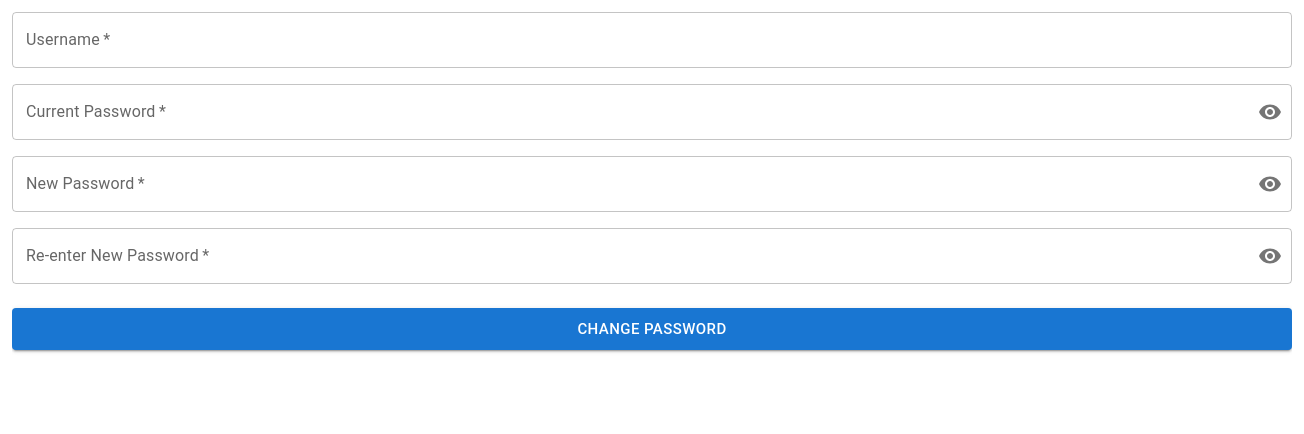
Test: PasswordForm › surfaces a general error alert when server returns unfielded error
Type "jdoe" into the field labelled "Username *" at (652, 40), box [12,12,1292,68]
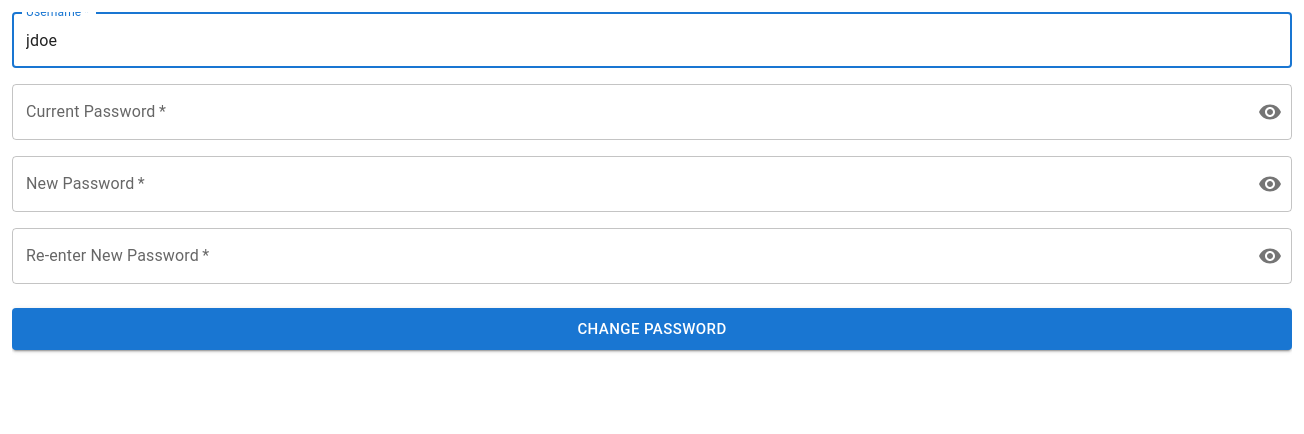
Type "OldPass1!" into the password field labelled "Current Password *" at (627, 112), box [12,84,1242,140]
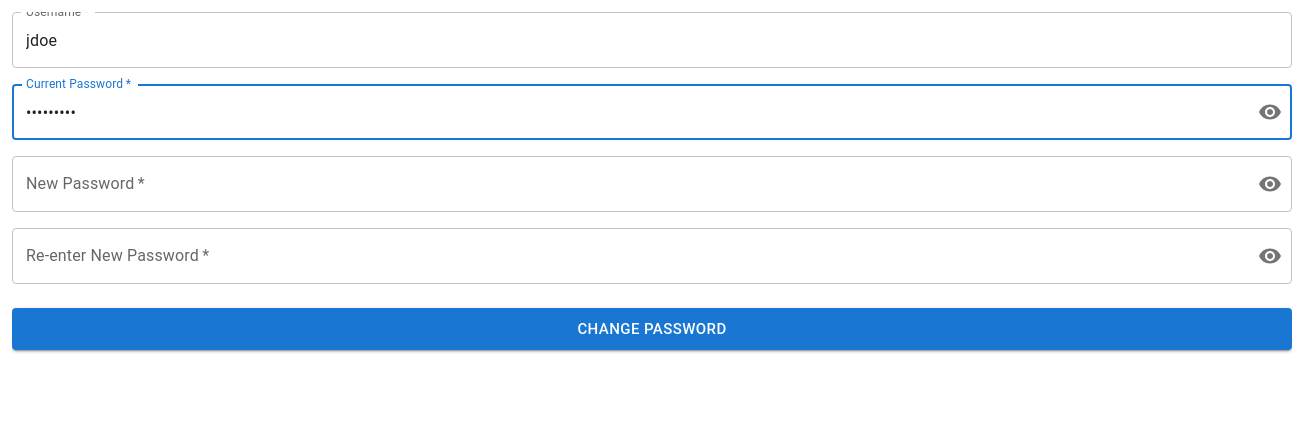
Type "NewPass1!" into the password field labelled "New Password *" at (627, 184), box [12,156,1242,212]
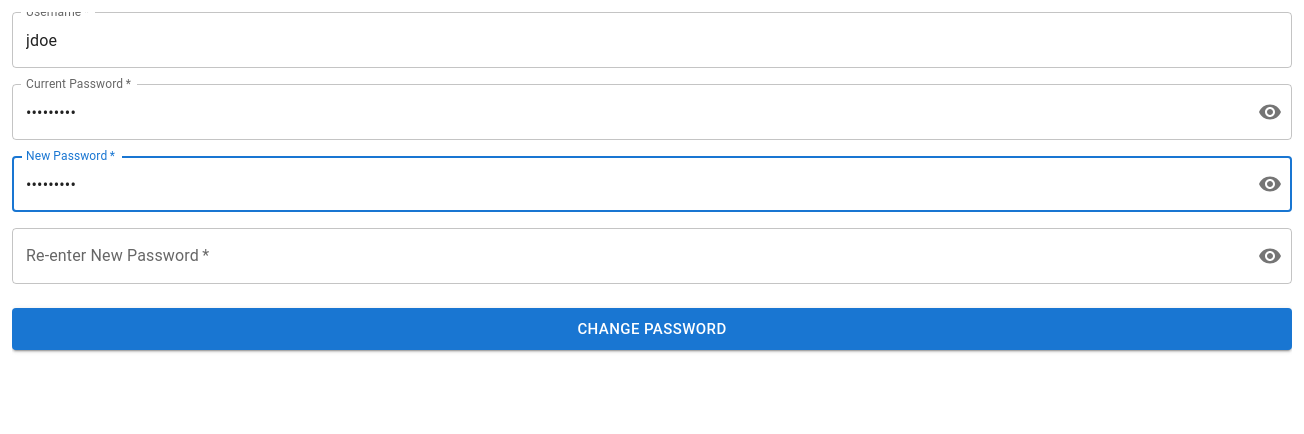
Type "NewPass1!" into the password field labelled "Re-enter New Password *" at (627, 256), box [12,228,1242,284]
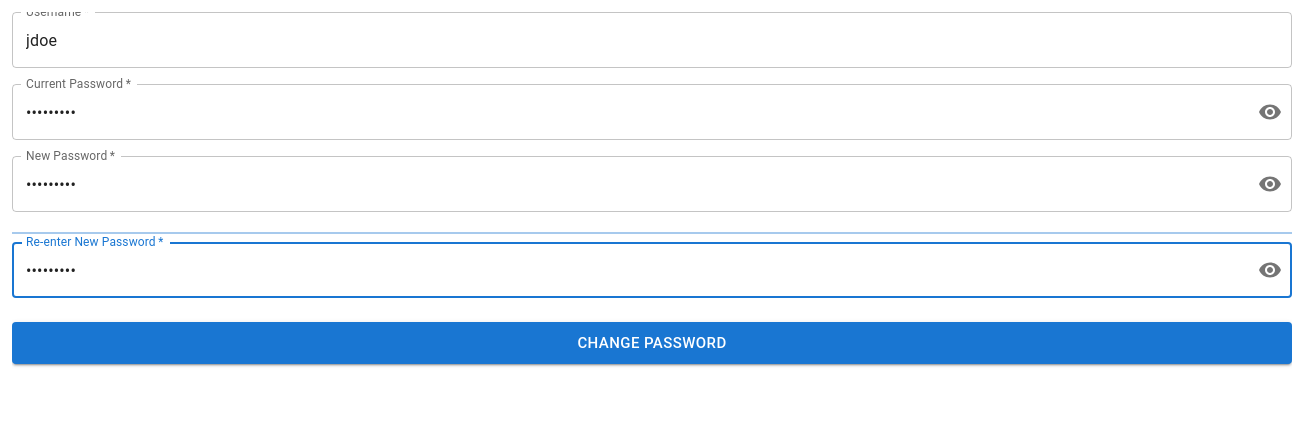
Click the button "Change Password" at (652, 343), box [12,322,1292,364]
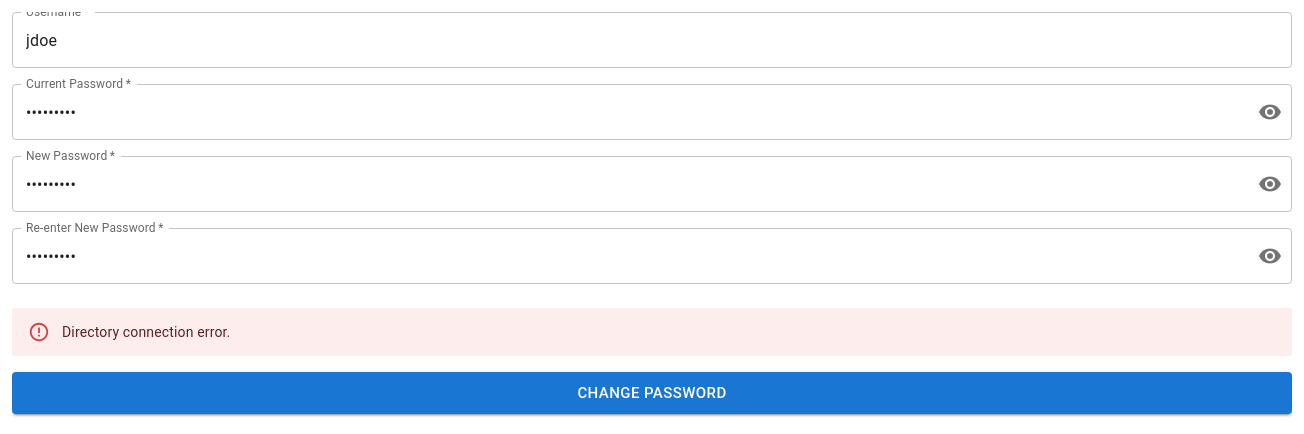
Now the text "Directory connection error." is shown, box [62,324,230,340]
